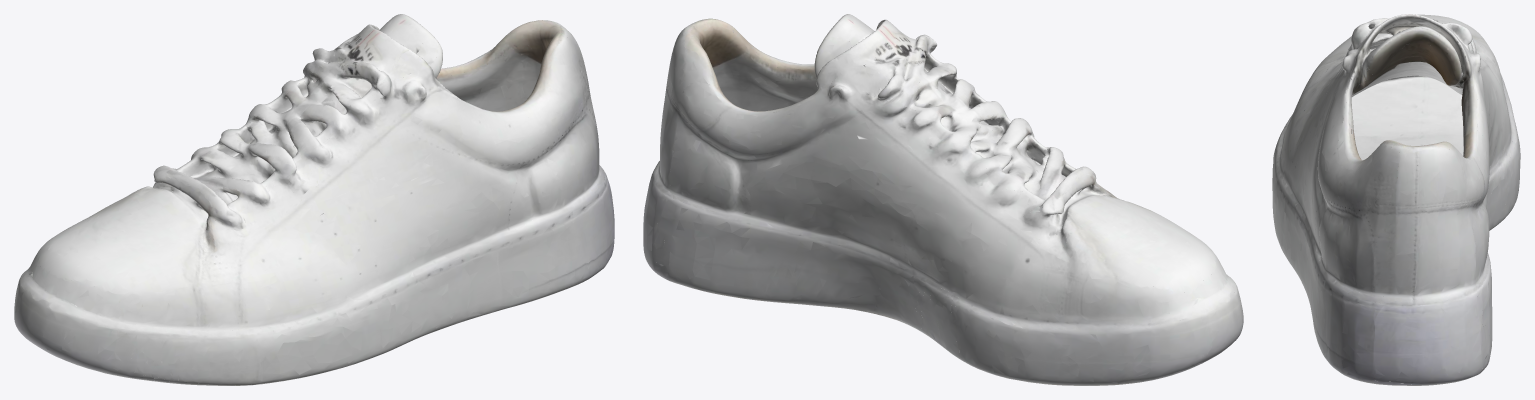
Rendered from form-01-v4.glb.
3 views of the same model, side by side, from view 1: azimuth 30°, elevation 25°; view 2: azimuth 150°, elevation 25°; view 3: azimuth 270°, elevation 25° (orthographic).
Parts seen in each view (by area): view 1: GEO-V4-Web; view 2: GEO-V4-Web; view 3: GEO-V4-Web.
Boxes of the visible parts, bbox=[...] form: GEO-V4-Web: bbox=[14, 14, 614, 385]; GEO-V4-Web: bbox=[643, 14, 1243, 385]; GEO-V4-Web: bbox=[1272, 14, 1520, 385].
Bounding box in the file's own units: 0.3 × 0.1361 × 0.1109.
1 material, 1 textured.
